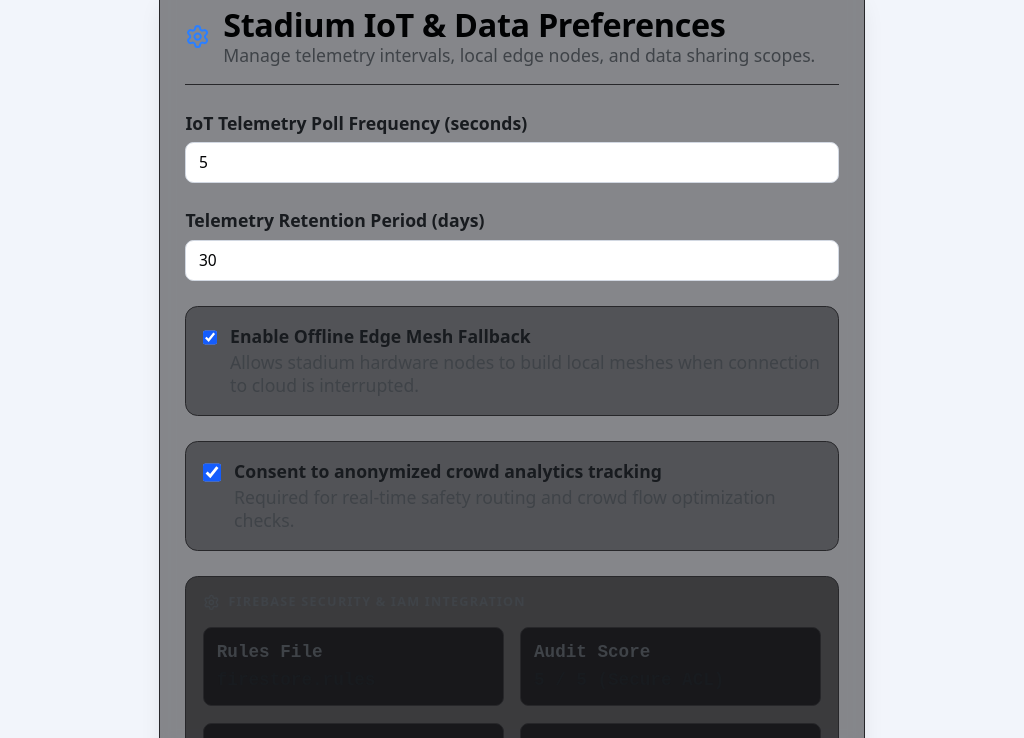
it: Preferences Unit Component › shows IoT interval validation error when interval is 0
Step 1. Replace the text in the number field labelled "IoT Telemetry Poll Frequency (seconds)" with "0" → (512, 162), box [185,142,839,183]
(page scrolled)
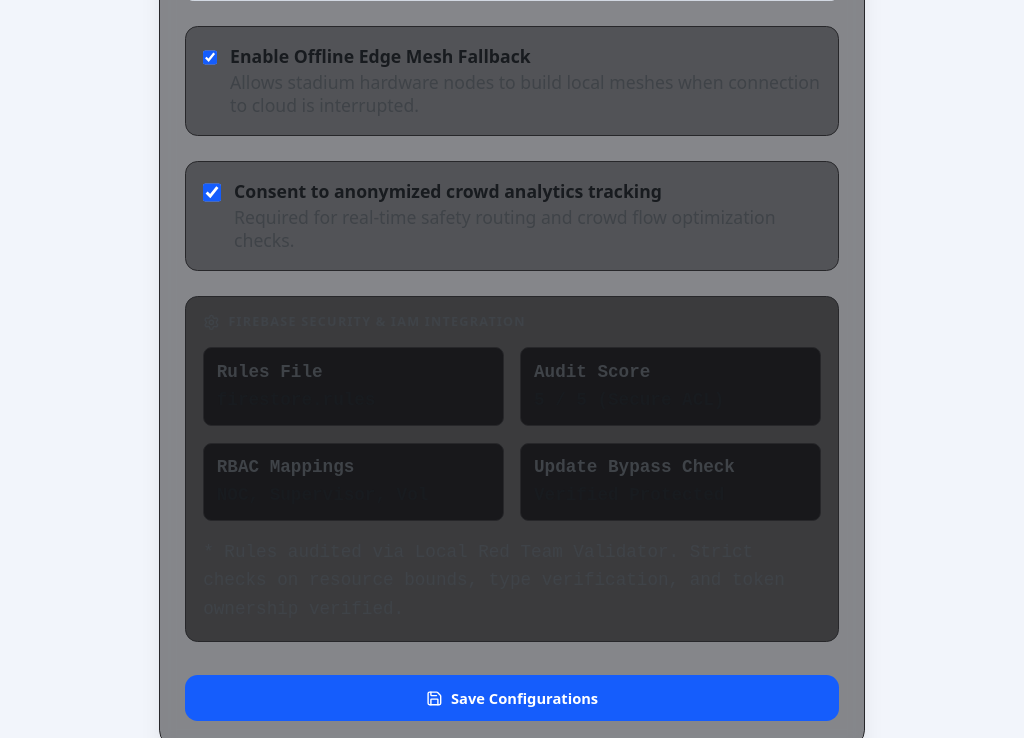
Step 2. Click the button with aria-label "Save IoT preferences" → (512, 698), box [185,675,839,721]
(page scrolled)
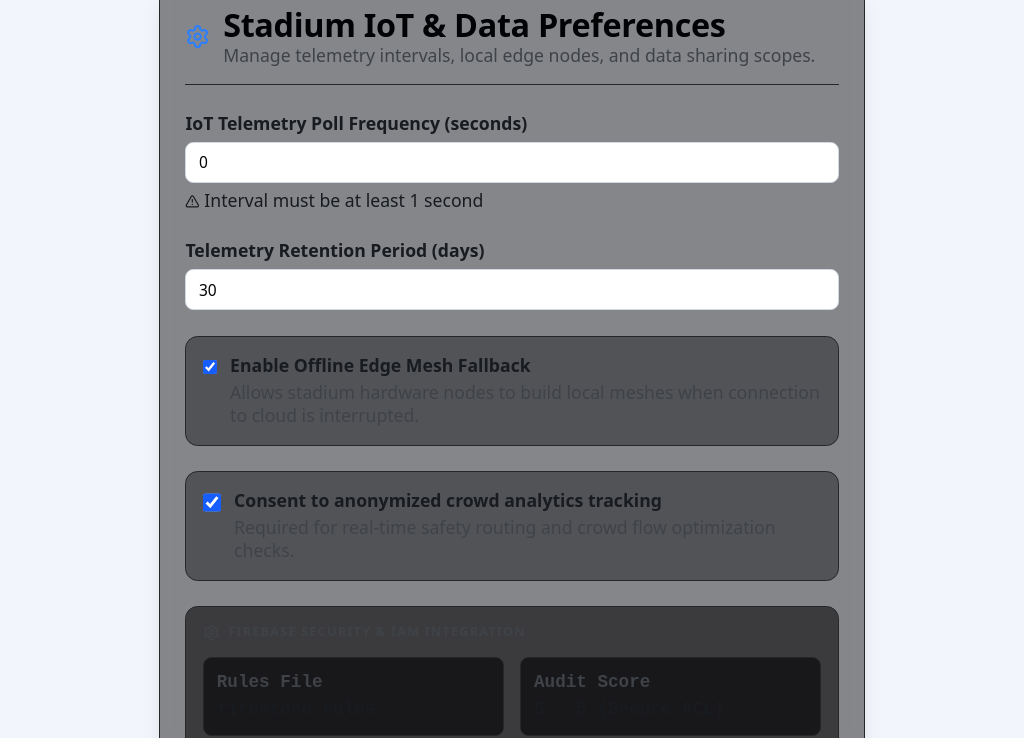
Expected: the text "Interval must be at least 1 second" is shown, [185,188,483,212]
